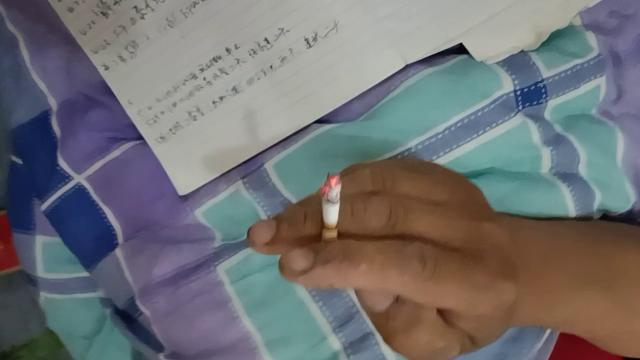Cigarette: (322, 173, 342, 251)
